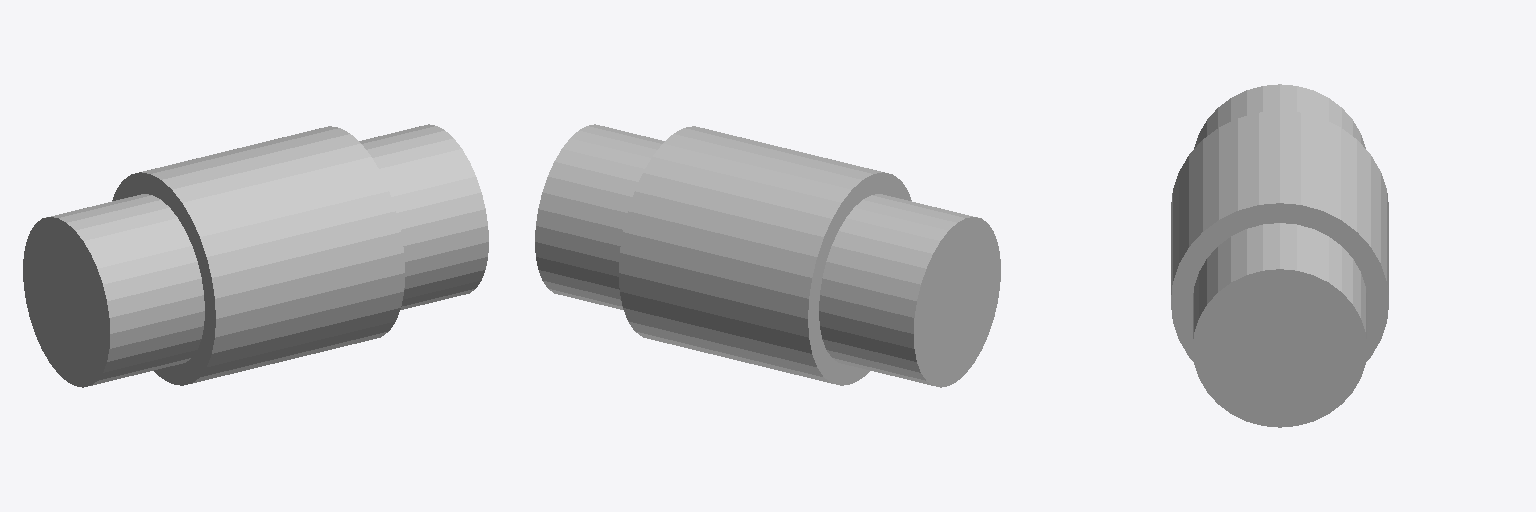
The model's file is Motor.obj.
3 views of the same model, side by side, from view 1: azimuth 30°, elevation 25°; view 2: azimuth 150°, elevation 25°; view 3: azimuth 270°, elevation 25° (orthographic).
Parts seen in each view (by area): view 1: Cylinder, Cylinder.001; view 2: Cylinder, Cylinder.001; view 3: Cylinder.001, Cylinder.
Part boxes in pixels (left/top/right/bottom): Cylinder: left=112, top=126, right=404, bottom=385; Cylinder.001: left=23, top=124, right=488, bottom=387; Cylinder: left=619, top=126, right=911, bottom=385; Cylinder.001: left=535, top=124, right=1000, bottom=387; Cylinder.001: left=1193, top=84, right=1366, bottom=427; Cylinder: left=1171, top=111, right=1388, bottom=361.
Bounding box in the file's own units: 0.4 × 0.2 × 0.2.